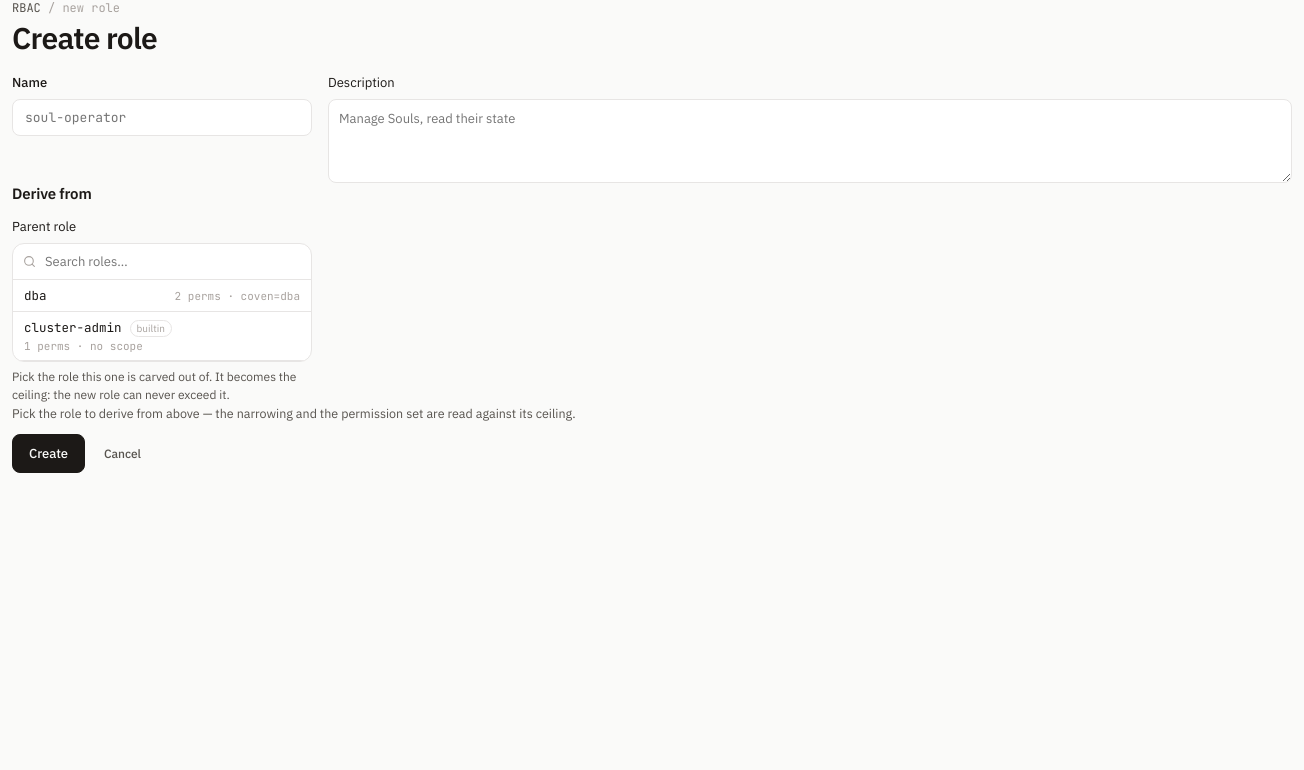
CreateRolePage — derived roles (NIM-182) › picking a parent shows its inherited scope and the set to pick from
Click the radio button with test id "parent-role-option-dba". click: (198, 296)
box: [13,280,311,312]
(page scrolled)
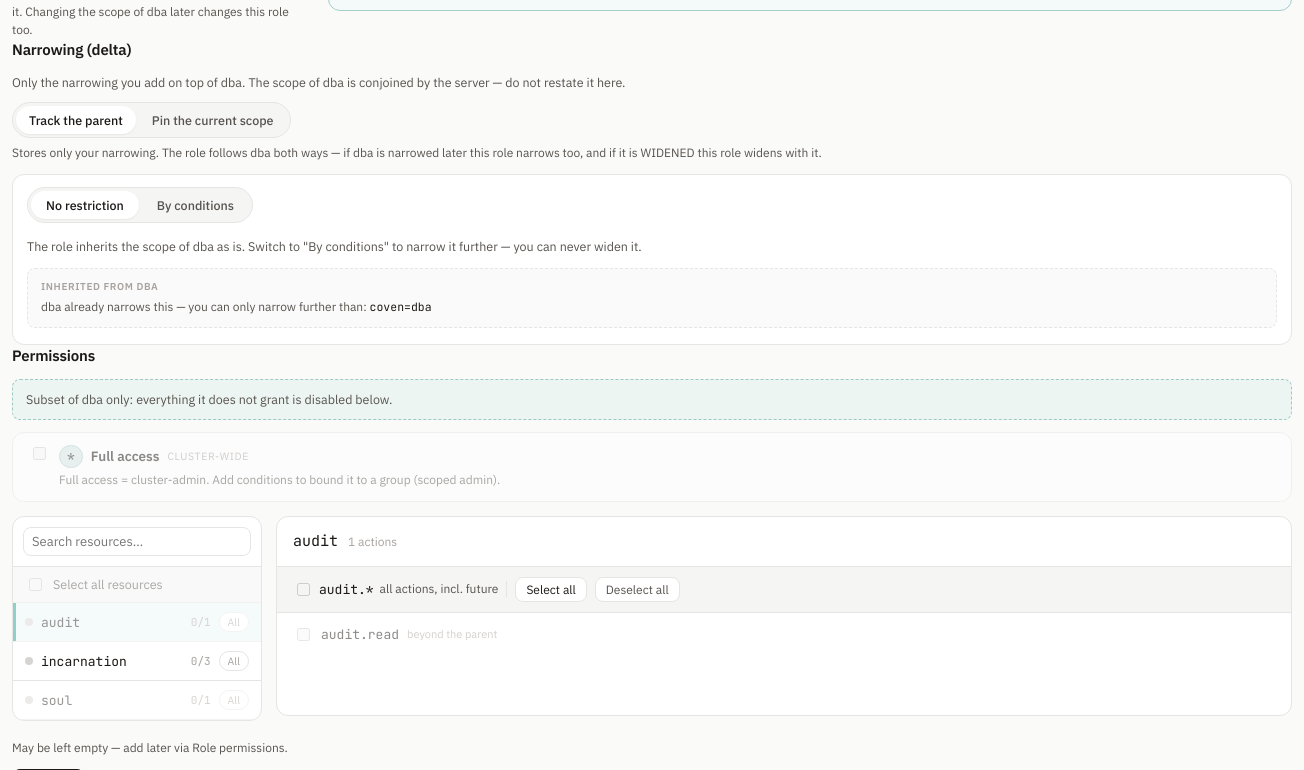
Expected: the text with test id "perm-parent-subset-note" is shown, [12,379,1292,420]
